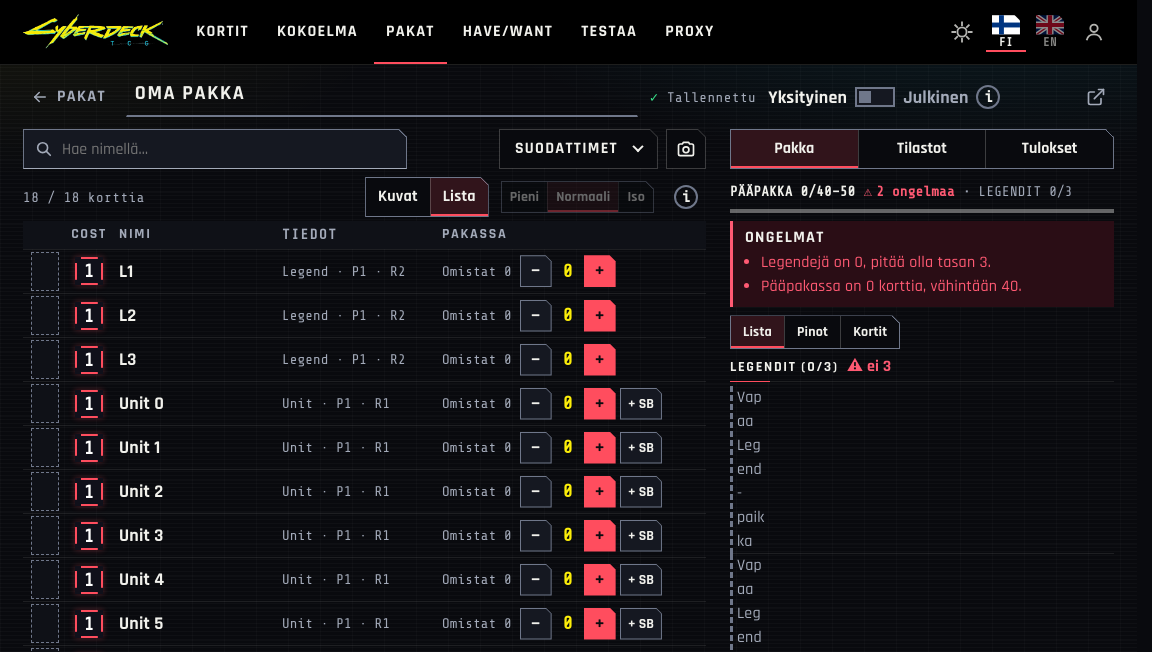
Scenario: Results section of the deck editor › shows the record, the opponent, colour and event tables and the list
Click the button "Tulokset". click: point(1049, 149)
box: [985,130,1113,168]
(page scrolled)
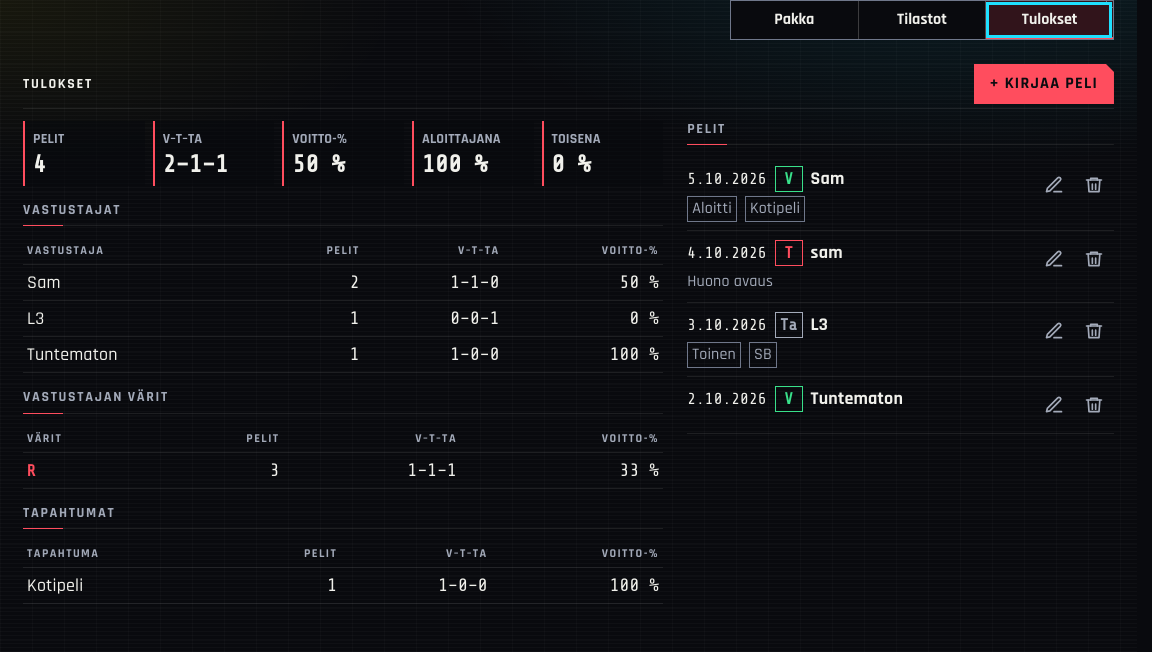
Now the heading "Tulokset" is shown, box [23,74,93,92]
Now the row "Sam 2 1–1–0 50 %" is shown, box [23,265,663,301]
Now the element "Vastustajan värit" is shown, box [27,462,37,480]
